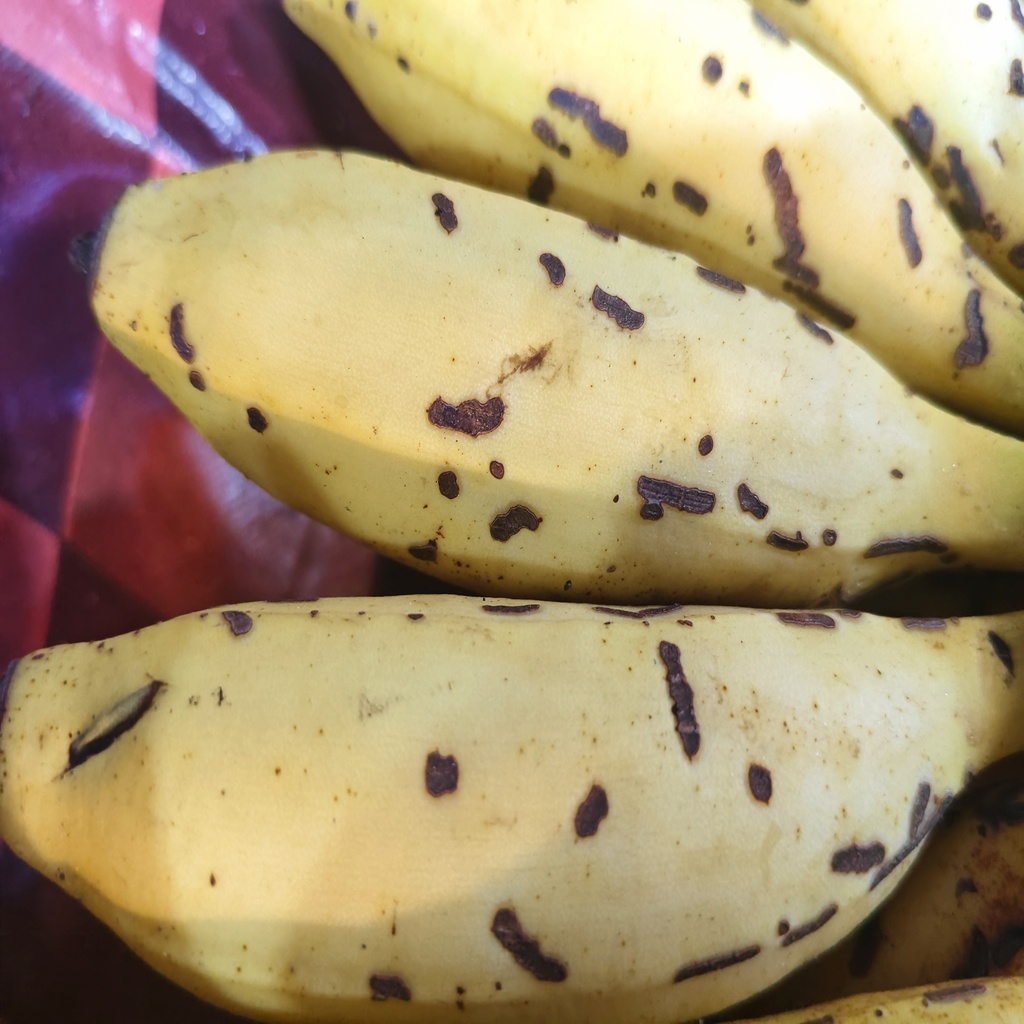unhealthy: (106, 144, 961, 607), (3, 596, 944, 1012)
